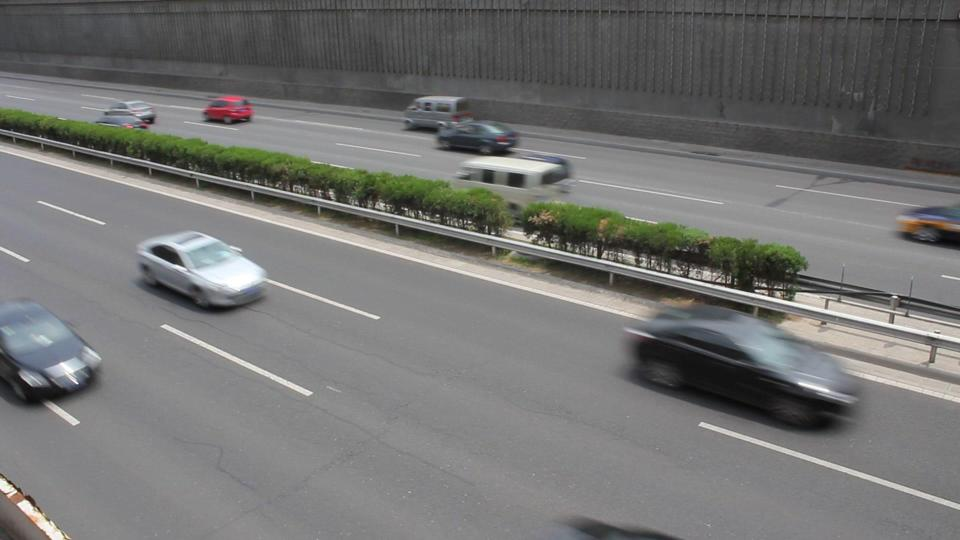Car: (625, 301, 865, 431), (138, 229, 268, 311), (1, 299, 103, 401), (487, 152, 570, 193), (434, 118, 517, 155), (89, 113, 148, 144), (104, 98, 155, 124), (203, 97, 254, 122)
Minivan: (444, 156, 565, 225), (399, 94, 471, 133)
